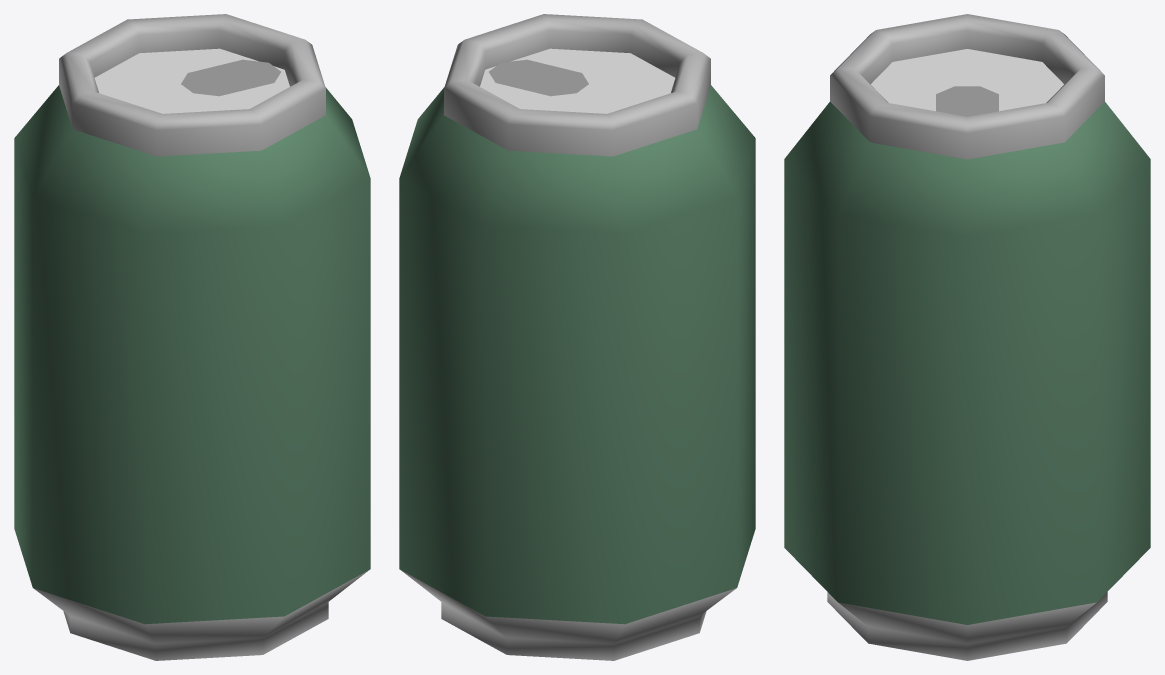
File: prop_077.fbx
The picture shows the model from 3 angles, left to right: view 1: azimuth 30°, elevation 25°; view 2: azimuth 150°, elevation 25°; view 3: azimuth 270°, elevation 25°; orthographic projection.
Visible parts, largest first — view 1: prop_077; view 2: prop_077; view 3: prop_077.
Boxes of the visible parts, left/top/right/bottom form: prop_077: left=14, top=14, right=370, bottom=660; prop_077: left=399, top=14, right=755, bottom=660; prop_077: left=784, top=14, right=1150, bottom=660.
Bounding box in the file's own units: 11.49 × 11.49 × 18.43.
